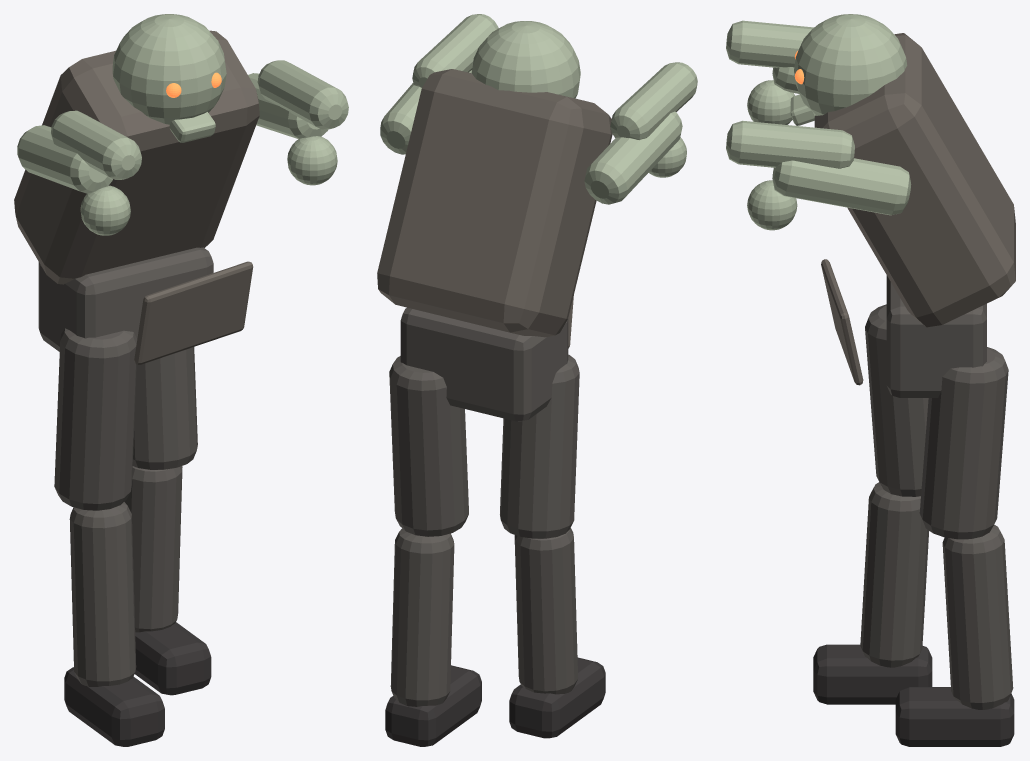
Rendered from zombie_standard.glb.
3 views of the same model, side by side, from view 1: azimuth 30°, elevation 25°; view 2: azimuth 150°, elevation 25°; view 3: azimuth 270°, elevation 25° (orthographic). The views are drawn at different scales.
Parts seen in each view (by area): view 1: torso, thigh-1, shin-1, head, pelvis, shin1, flap, thigh1, boot-1, boot1, fa1, fa-1 (+5 smaller); view 2: torso, pelvis, thigh1, thigh-1, shin1, shin-1, head, boot-1, ua-1, boot1, fa-1, fa1 (+2 smaller); view 3: torso, thigh1, shin1, shin-1, head, pelvis, thigh-1, boot1, ua1, boot-1, fa1, fa-1 (+5 smaller).
Part boxes in pixels (x1,y1,x2,y2): torso: (14,30,259,284); thigh-1: (54,328,137,510); shin-1: (69,502,136,686); head: (112,14,226,124); pelvis: (38,247,213,351); shin1: (124,466,182,632); flap: (134,261,253,364); thigh1: (132,347,197,469); boot-1: (64,667,164,746); boot1: (134,622,211,695); fa1: (257,60,348,129); fa-1: (51,110,141,179); torso: (377,69,612,337); pelvis: (400,307,568,421); thigh1: (389,356,468,536); thigh-1: (500,354,579,538); shin1: (390,528,454,706); shin-1: (514,528,578,694); head: (471,21,580,98); boot-1: (509,657,605,738); ua-1: (584,111,682,204); boot1: (385,665,481,746); fa-1: (610,62,697,139); fa1: (412,14,498,87); torso: (814,33,1015,327); thigh1: (919,347,1008,539); shin1: (942,524,1013,709); shin-1: (860,482,929,667); head: (794,14,907,115); pelvis: (886,275,986,397); thigh-1: (865,304,928,496); boot1: (895,687,1014,746); ua1: (772,158,911,215); boot-1: (813,644,932,704); fa1: (726,120,854,168); fa-1: (726,20,813,67).
Size of the model in its own units: 0.6546 by 1.69 by 0.6342.
